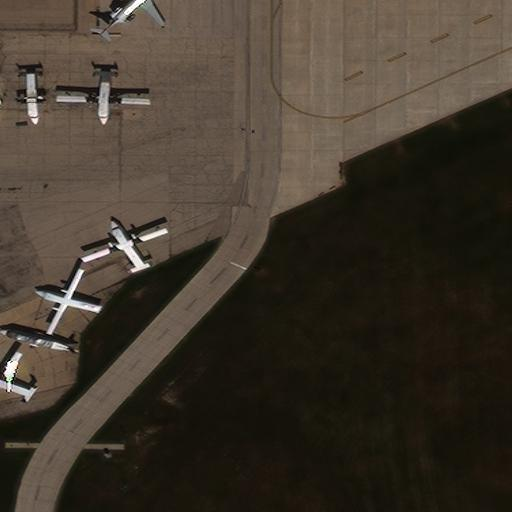Medium Civil Transport: (55, 72, 150, 125), (34, 267, 101, 334), (79, 220, 165, 270), (99, 0, 168, 35), (0, 351, 33, 404)
